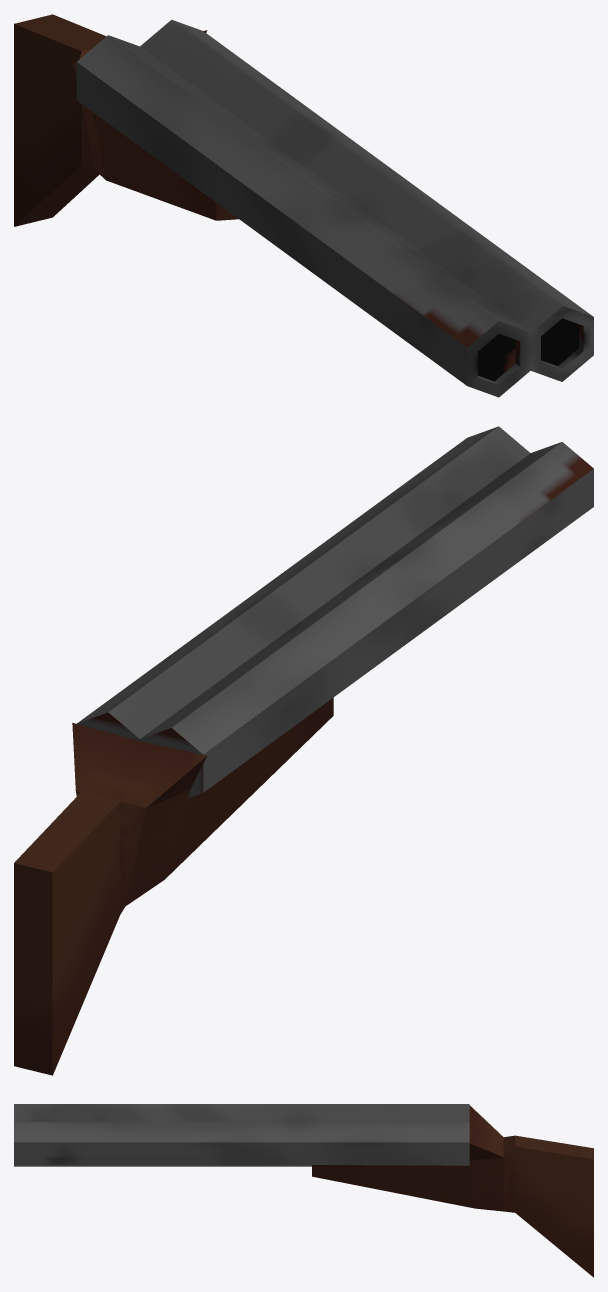
The model's file is doublebarrel.glb.
3 views of the same model, one above another, from view 1: azimuth 30°, elevation 25°; view 2: azimuth 150°, elevation 25°; view 3: azimuth 270°, elevation 25° (orthographic). The views are drawn at different scales.
Parts seen in each view (by area): view 1: Double.Barrel; view 2: Double.Barrel; view 3: Double.Barrel.
Part boxes in pixels (bbox=[...]): Double.Barrel: bbox=[14, 14, 593, 397]; Double.Barrel: bbox=[14, 426, 593, 1075]; Double.Barrel: bbox=[14, 1104, 593, 1277].
Bounding box in the file's own units: 0.2514 × 0.4851 × 1.6.
1 material, 1 textured.
